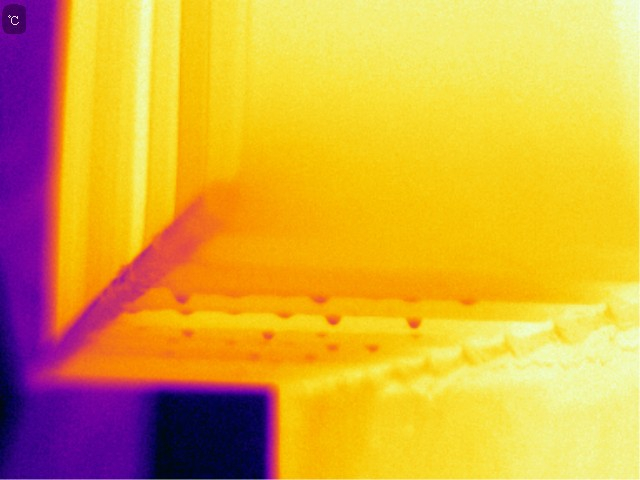Oil: (162, 280, 198, 305), (300, 349, 323, 372), (319, 308, 344, 328), (220, 286, 251, 302), (304, 291, 331, 306), (399, 317, 427, 331), (258, 325, 277, 345), (457, 291, 476, 309), (274, 303, 292, 322), (365, 338, 385, 355), (176, 325, 195, 342), (223, 303, 246, 317), (243, 348, 264, 363), (400, 293, 415, 308), (323, 342, 343, 353), (224, 333, 237, 345), (179, 308, 192, 317)
